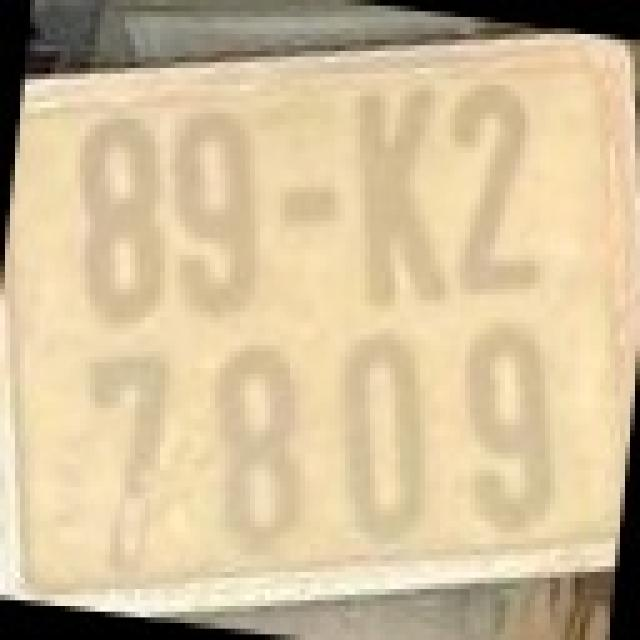0: (340, 326, 430, 541)
2: (450, 76, 545, 298)
7: (82, 346, 172, 566)
8: (78, 113, 168, 323), (215, 340, 305, 549)
9: (462, 320, 558, 530), (172, 108, 258, 317)
K: (355, 79, 445, 306)
